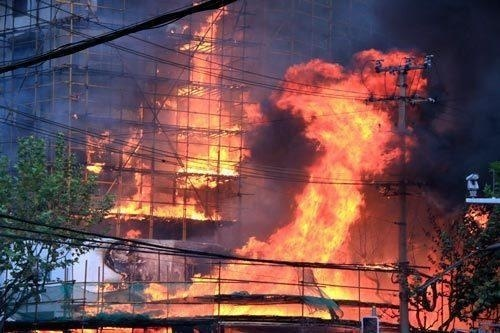fire: (62, 43, 459, 319), (82, 13, 254, 239)
